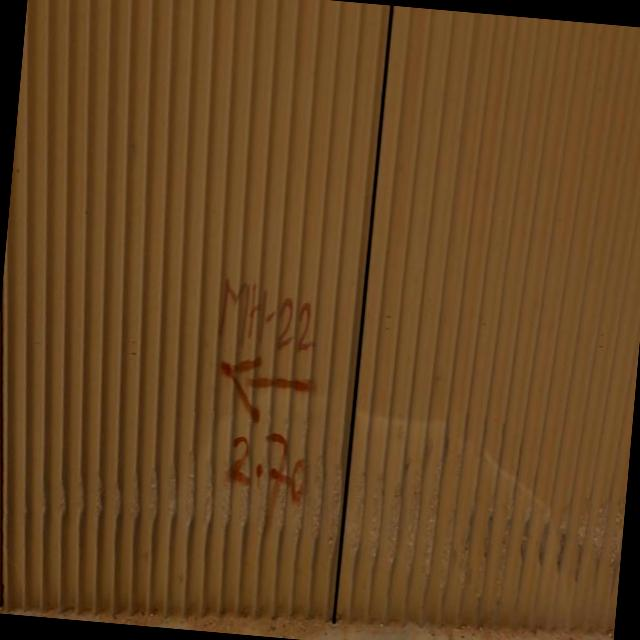debris: (106, 130, 419, 640)
